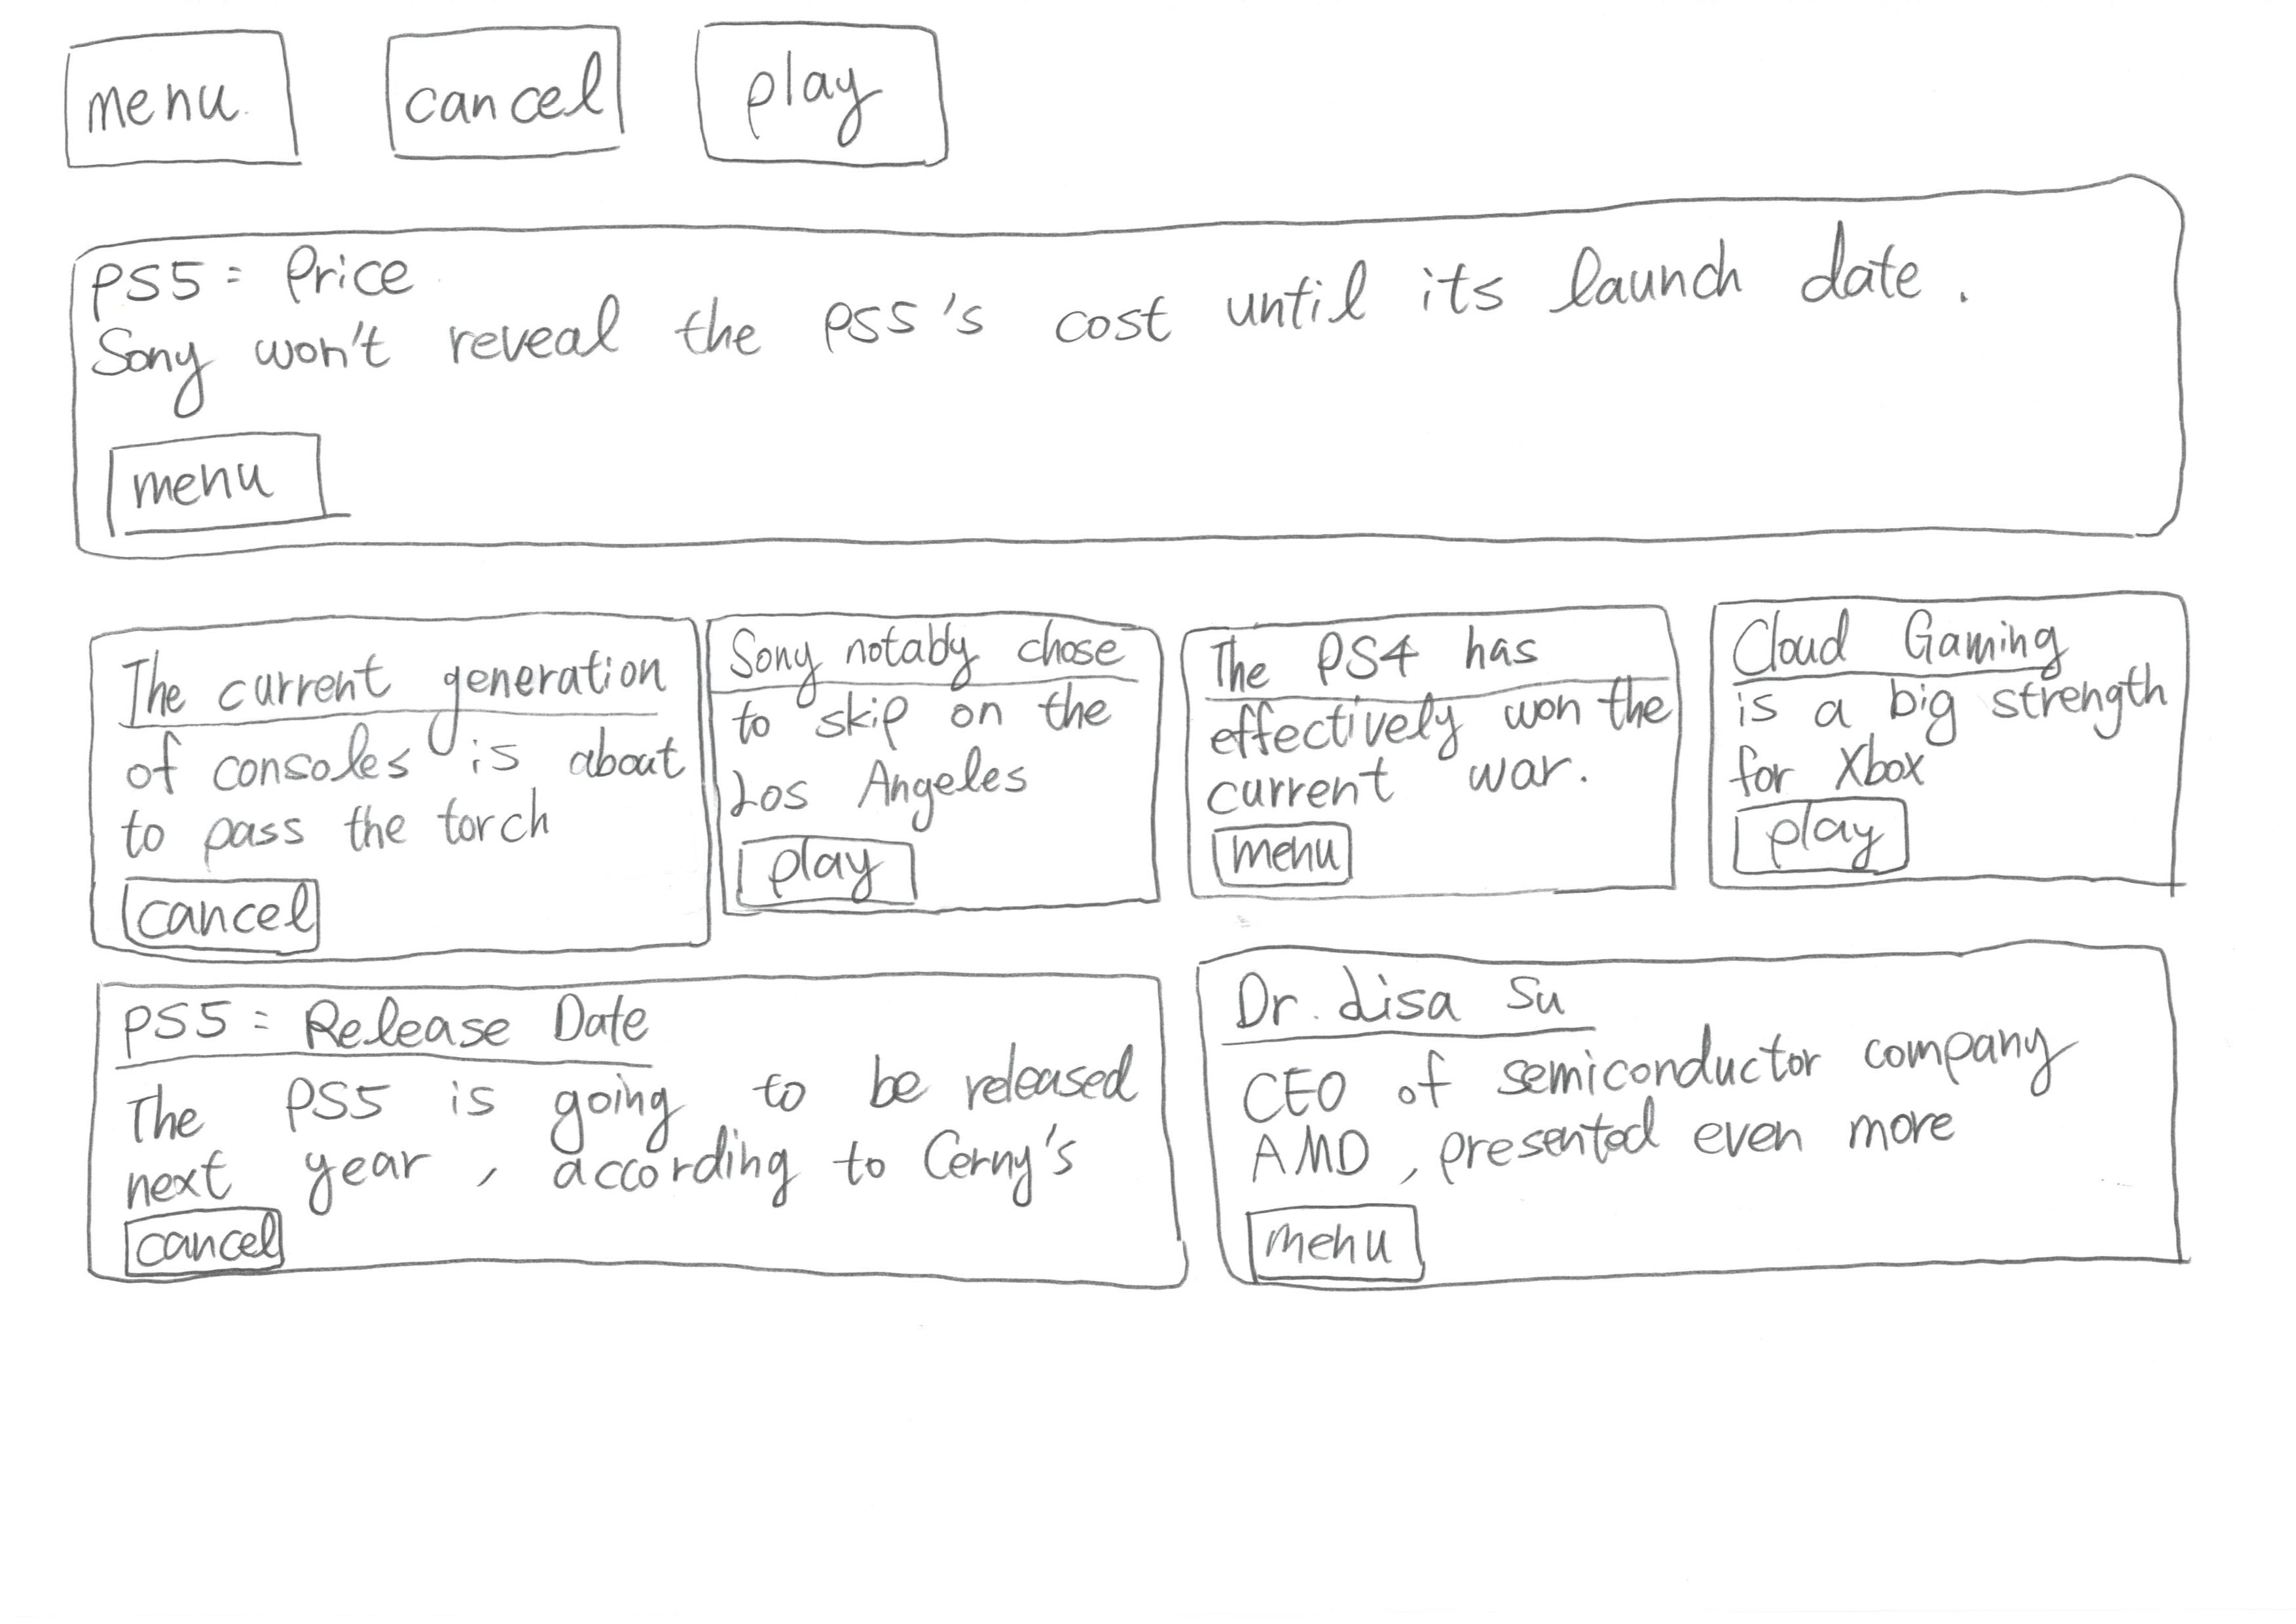cancel: (357, 12, 647, 179), (105, 1195, 316, 1294)
double: (72, 960, 1194, 1362), (1157, 933, 2277, 1334)
menu: (46, 12, 329, 178), (97, 411, 406, 547), (1239, 1185, 1456, 1301), (1194, 808, 1389, 910)
play: (654, 7, 986, 204), (1718, 787, 1925, 905), (719, 828, 902, 893)
quadruple: (25, 550, 712, 986), (1695, 552, 2240, 960), (1160, 554, 1704, 961), (689, 569, 1180, 974)
row: (19, 944, 2296, 1350), (19, 562, 2296, 967), (19, 185, 2296, 569), (19, 0, 2296, 216)
single: (40, 155, 2278, 582)
small-title: (113, 990, 682, 1090), (98, 636, 675, 728), (726, 613, 1132, 707), (1232, 970, 1654, 1046), (1202, 638, 1616, 714), (1742, 605, 2113, 682), (88, 227, 420, 308)
text: (79, 244, 1895, 378), (95, 1074, 1109, 1214), (1227, 1032, 2076, 1172), (125, 715, 680, 882), (726, 691, 1136, 824), (1733, 670, 2159, 798), (1206, 698, 1642, 801)
